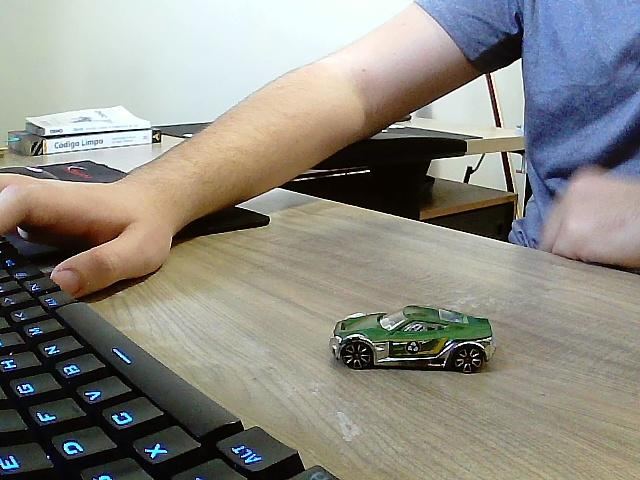Carro: (331, 306, 495, 374)
